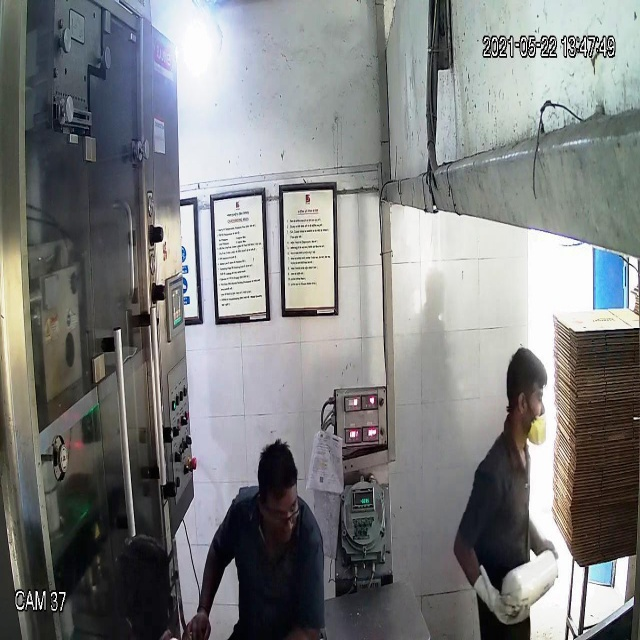Gafas: (258, 499, 303, 537)
